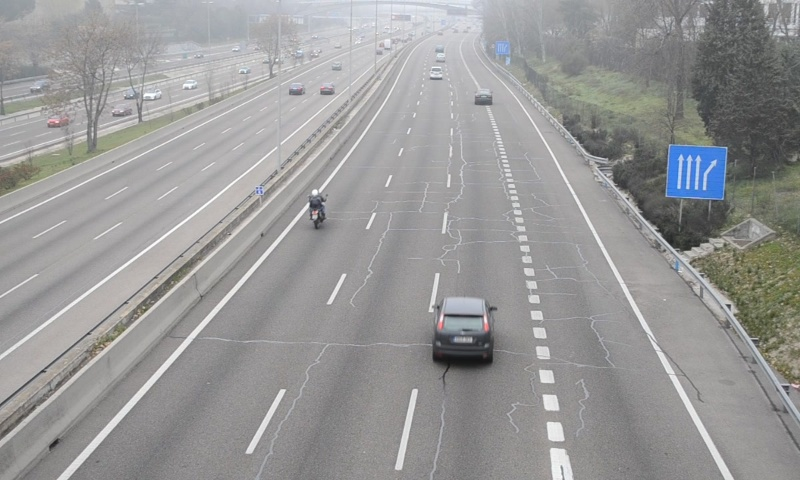car: (433, 295, 495, 359), (474, 89, 492, 104), (430, 66, 443, 80)
motorcycle: (308, 188, 326, 232)
